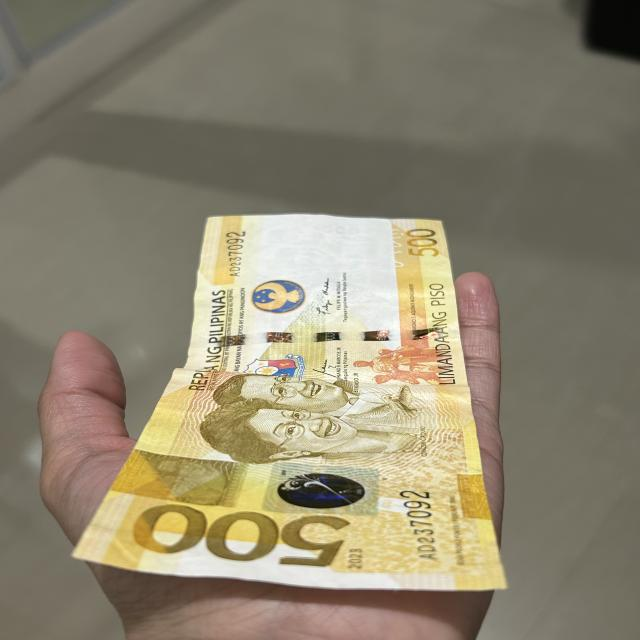concealed_value: (129, 448, 225, 498)
optically_variable_device: (276, 467, 370, 511)
security_thread: (216, 328, 442, 348)
see_through_mark: (383, 225, 409, 271)
serial_number: (388, 483, 448, 568), (220, 229, 254, 278)
value: (125, 498, 343, 570)
value_watermark: (316, 219, 360, 237)
